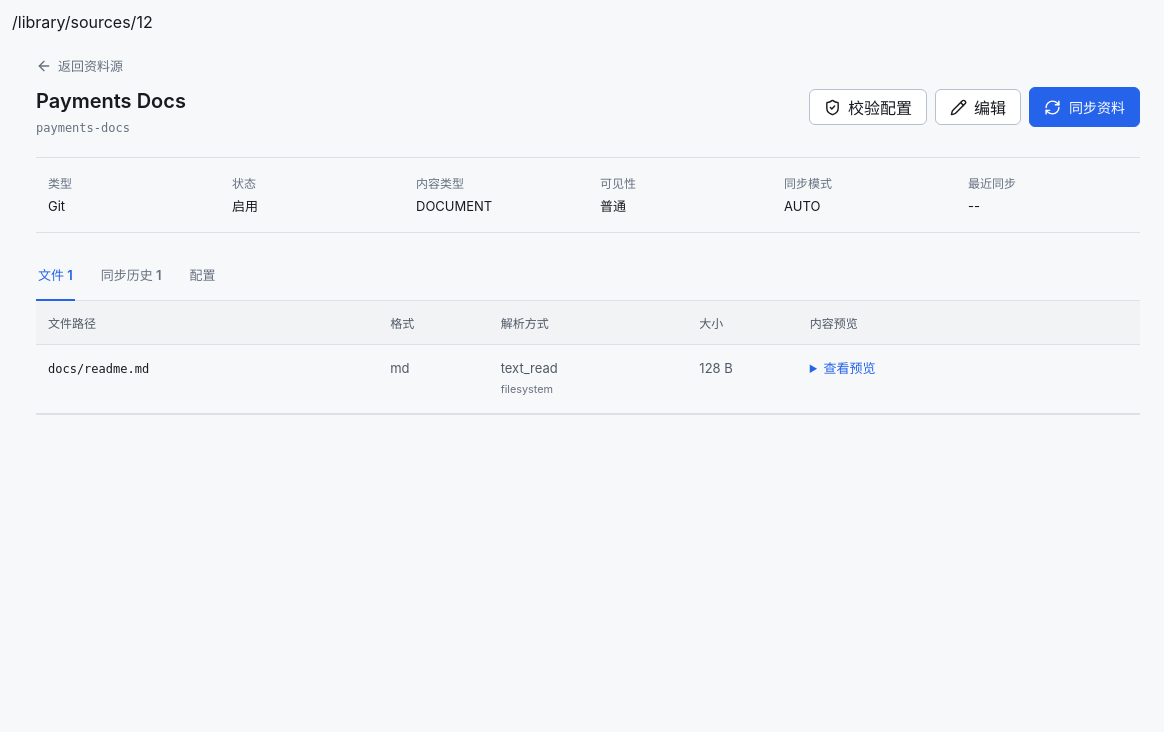
Test: source detail page › requires explicit confirmation before archiving and preserves typed Git configuration
Check: the heading "Payments Docs" is shown, box [36,87,186,115]
Click the button "编辑" at (978, 107), box [935,89,1021,125]
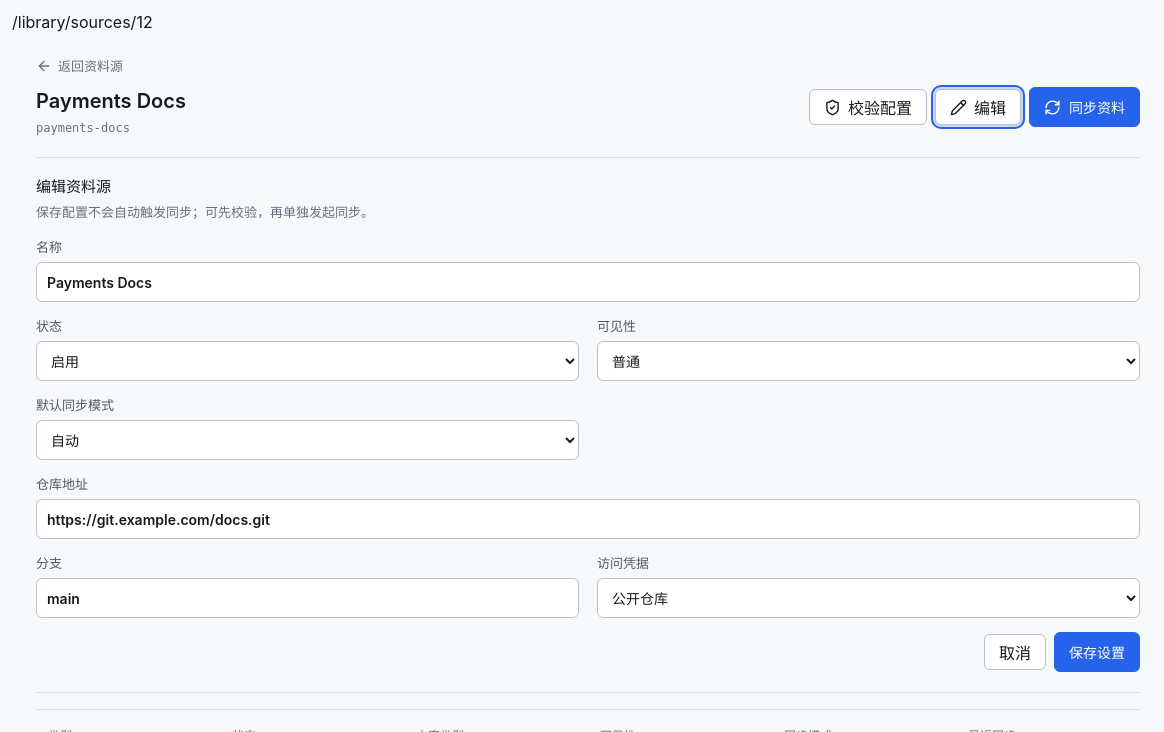
Replace the text in the field labelled "名称" with "Payments Archive" at (588, 282), box [36,262,1140,302]
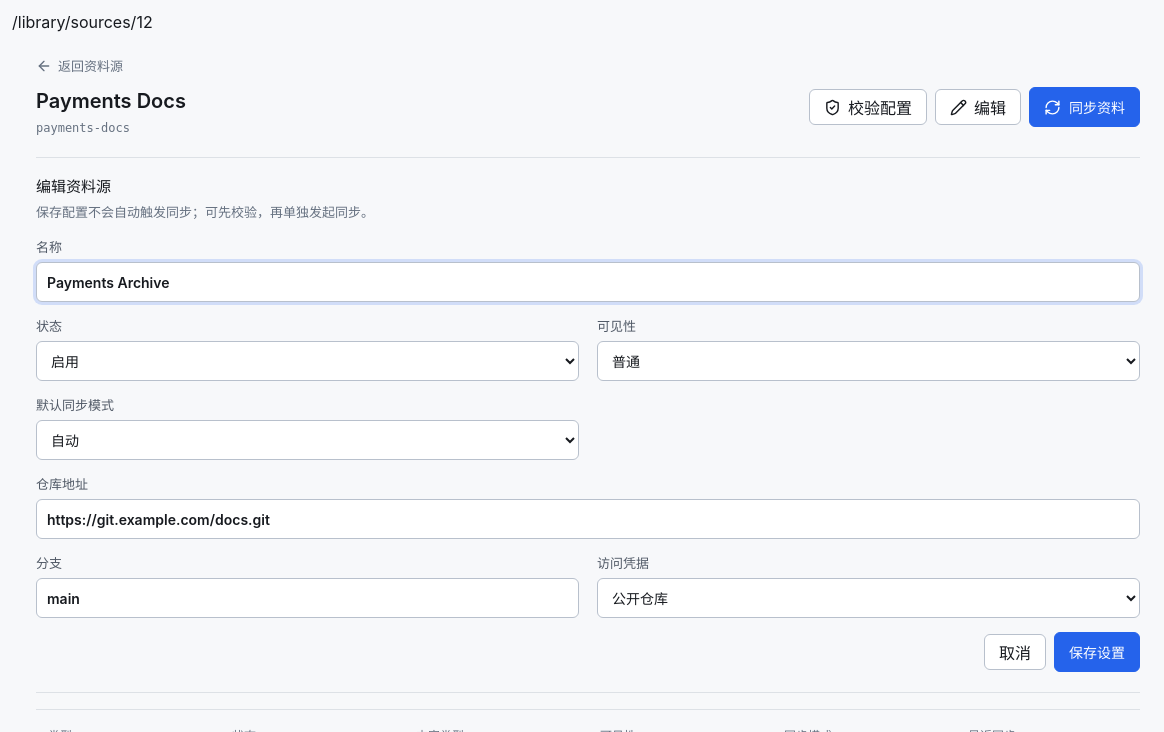
Replace the text in the field labelled "分支" with "release" at (308, 598), box [36,578,579,618]
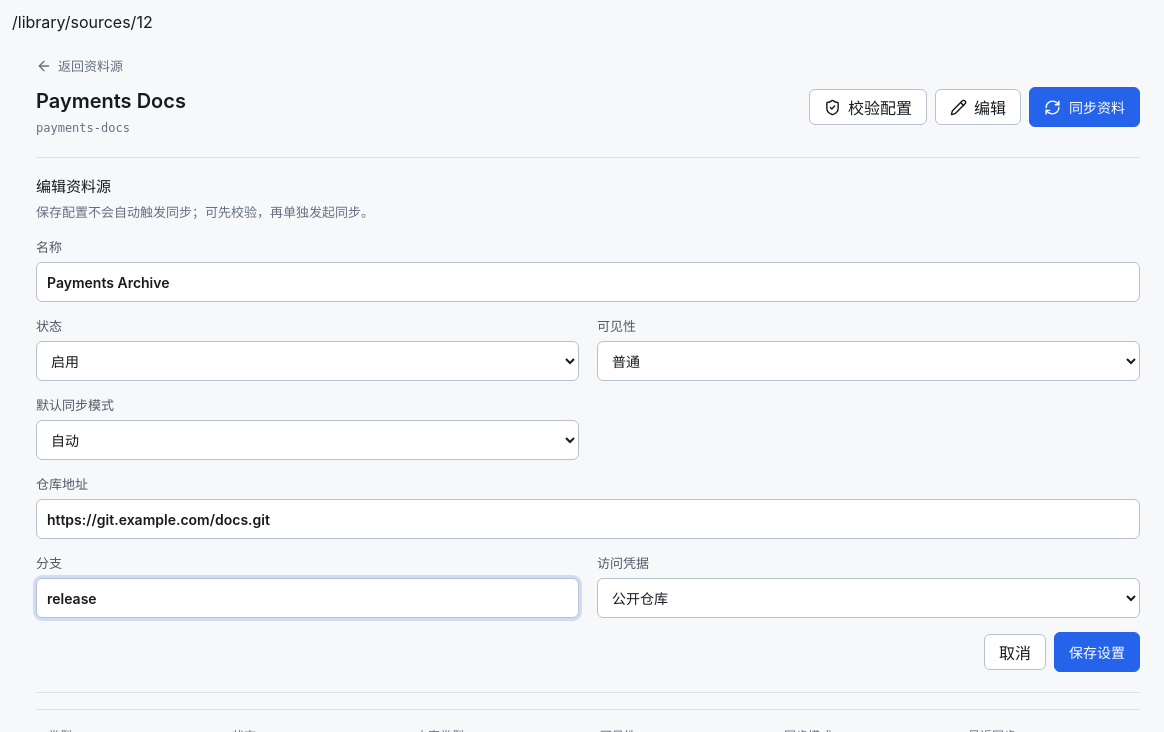
Select "归档" in the dropdown labelled "状态" at (308, 361), box [36,341,579,381]
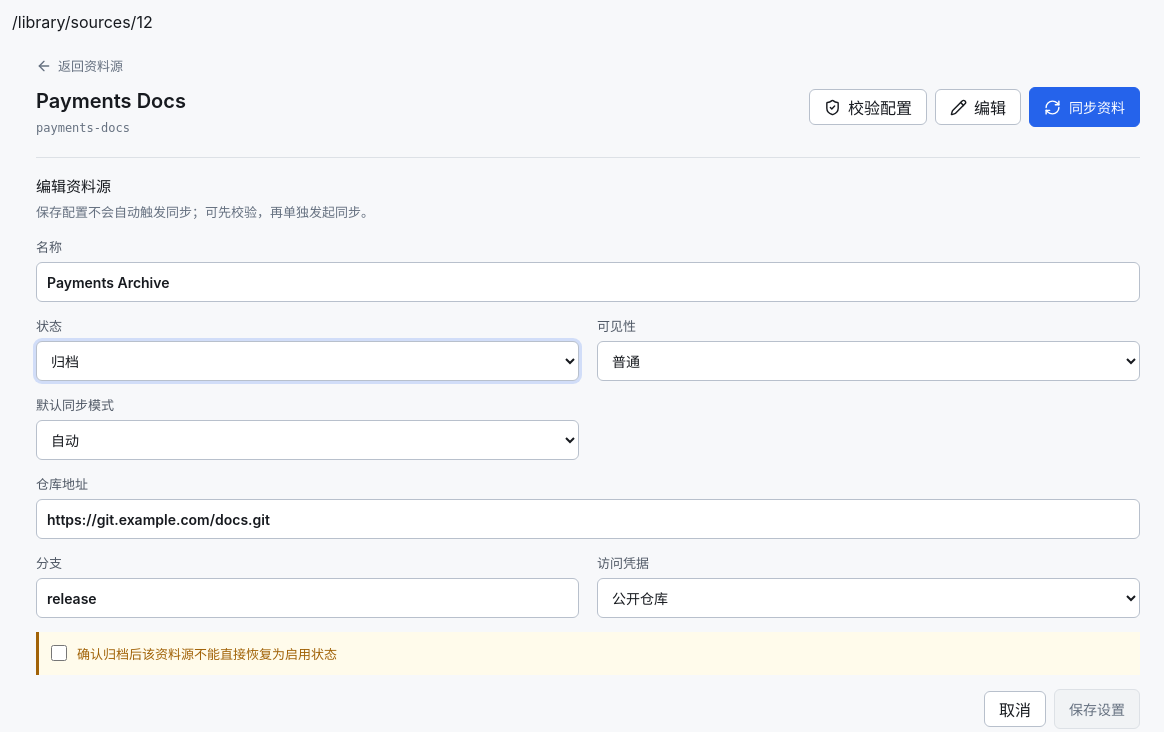
Check: the button "保存设置" is disabled, box [1054,689,1140,729]
Click the checkbox labelled "确认归档后该资料源不能直接恢复为启用状态" at (59, 653), box [51,645,67,661]
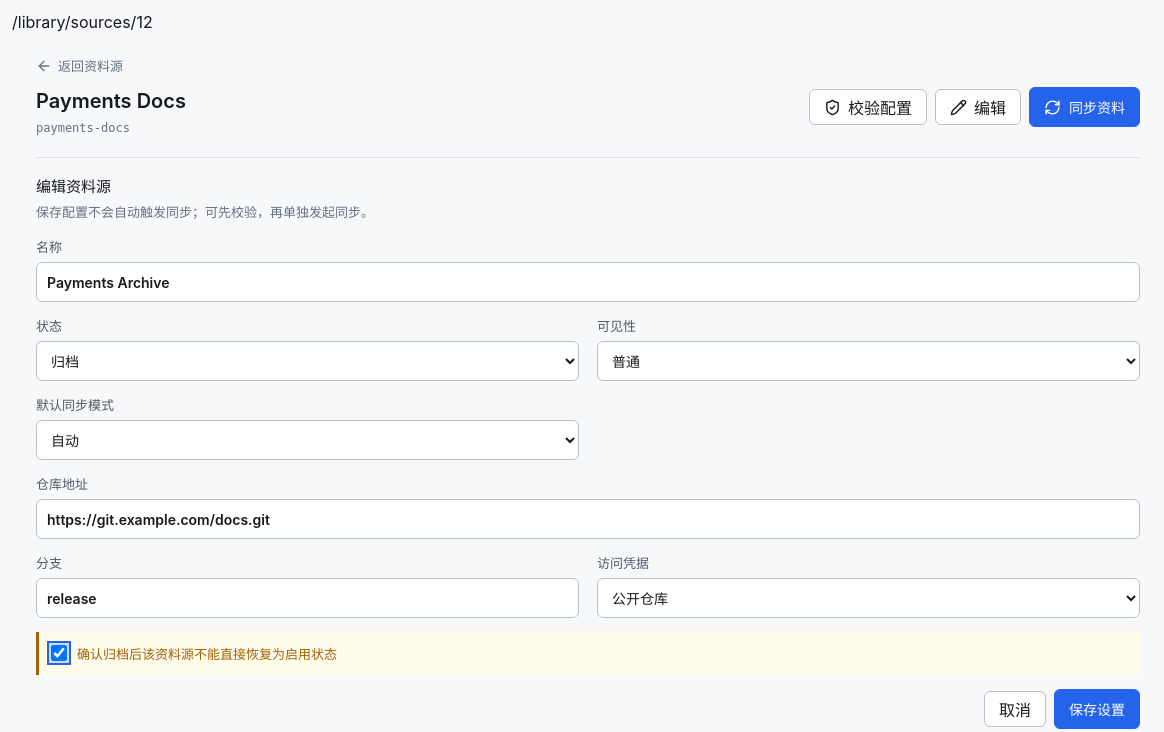
Click the button "保存设置" at (1097, 709), box [1054,689,1140,729]
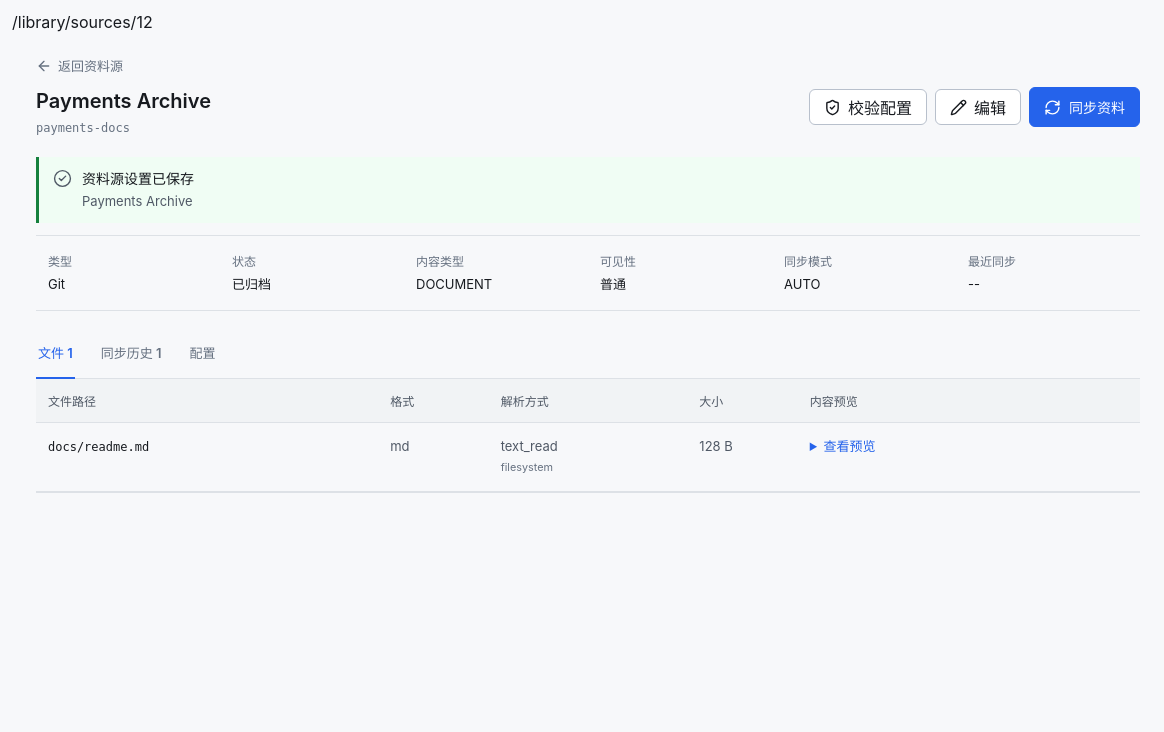
Check: the text "资料源设置已保存" is shown, box [82,170,194,187]
